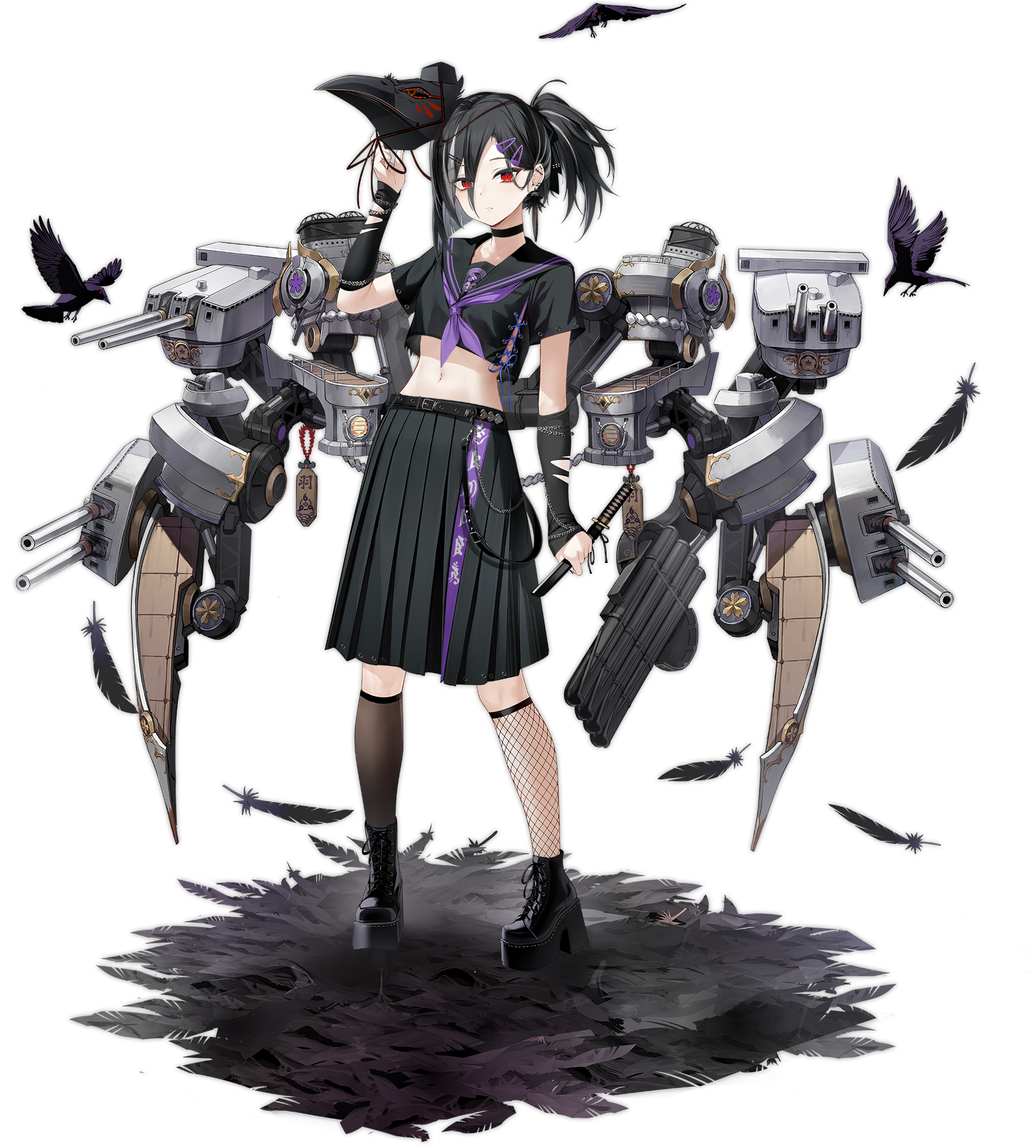person: (300, 54, 624, 1002)
